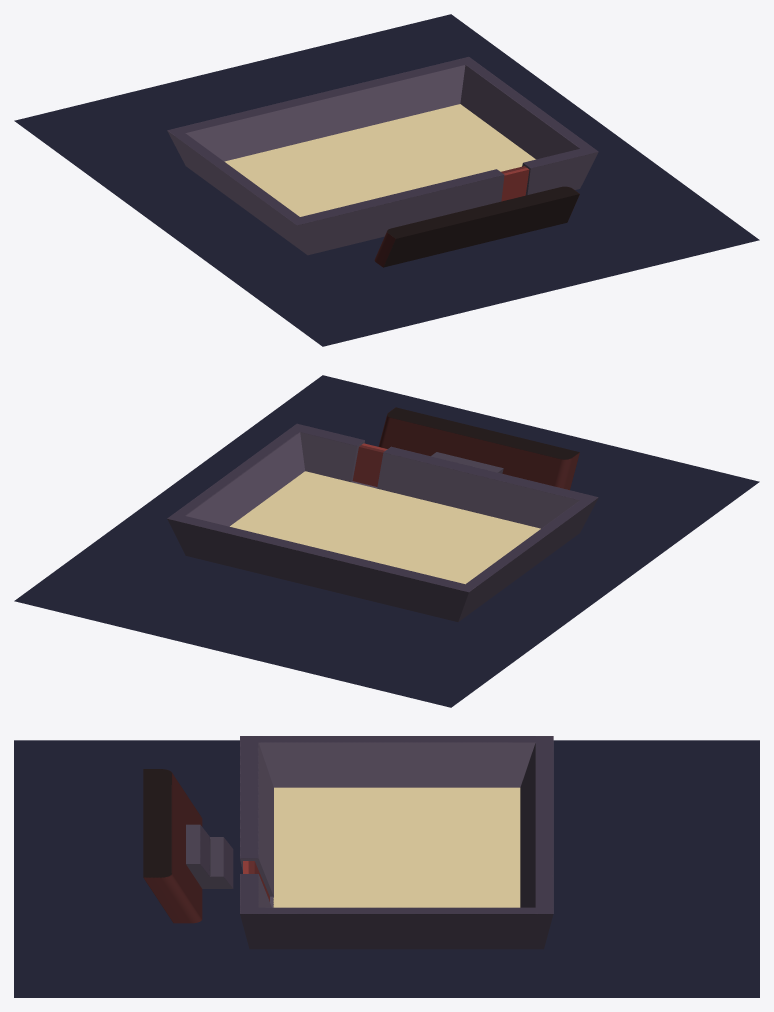
File: Map2.fbx
The picture shows the model from 3 angles, top to bottom: view 1: azimuth 30°, elevation 25°; view 2: azimuth 150°, elevation 25°; view 3: azimuth 270°, elevation 25°; orthographic projection. The views are drawn at different scales.
Parts seen in each view (by area): view 1: BG, Map2, Map2_BG, Map2_Step; view 2: BG, Map2, Map2_BG, Map2_Step; view 3: BG, Map2, Map2_BG, Map2_Step.
Boxes of the visible parts, x1,y1,x2,y2 form: BG: [14, 14, 759, 346]; Map2: [167, 57, 598, 255]; Map2_BG: [224, 104, 535, 216]; Map2_Step: [374, 186, 579, 267]; BG: [14, 375, 759, 707]; Map2: [167, 423, 598, 621]; Map2_BG: [230, 471, 540, 584]; Map2_Step: [378, 407, 579, 490]; BG: [14, 740, 759, 997]; Map2: [240, 736, 553, 949]; Map2_BG: [274, 787, 520, 907]; Map2_Step: [143, 769, 233, 923].
Bounding box in the file's own units: 8.69 × 0.7237 × 10.63.
